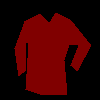abbigliamento_uomo: (14, 12, 91, 95)
